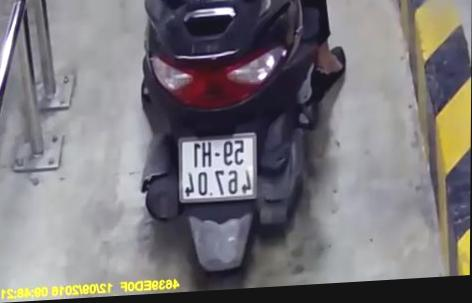License_Plate: (173, 123, 268, 207)
